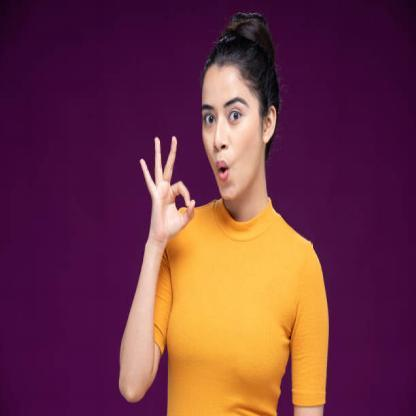ok: (138, 132, 197, 248)
